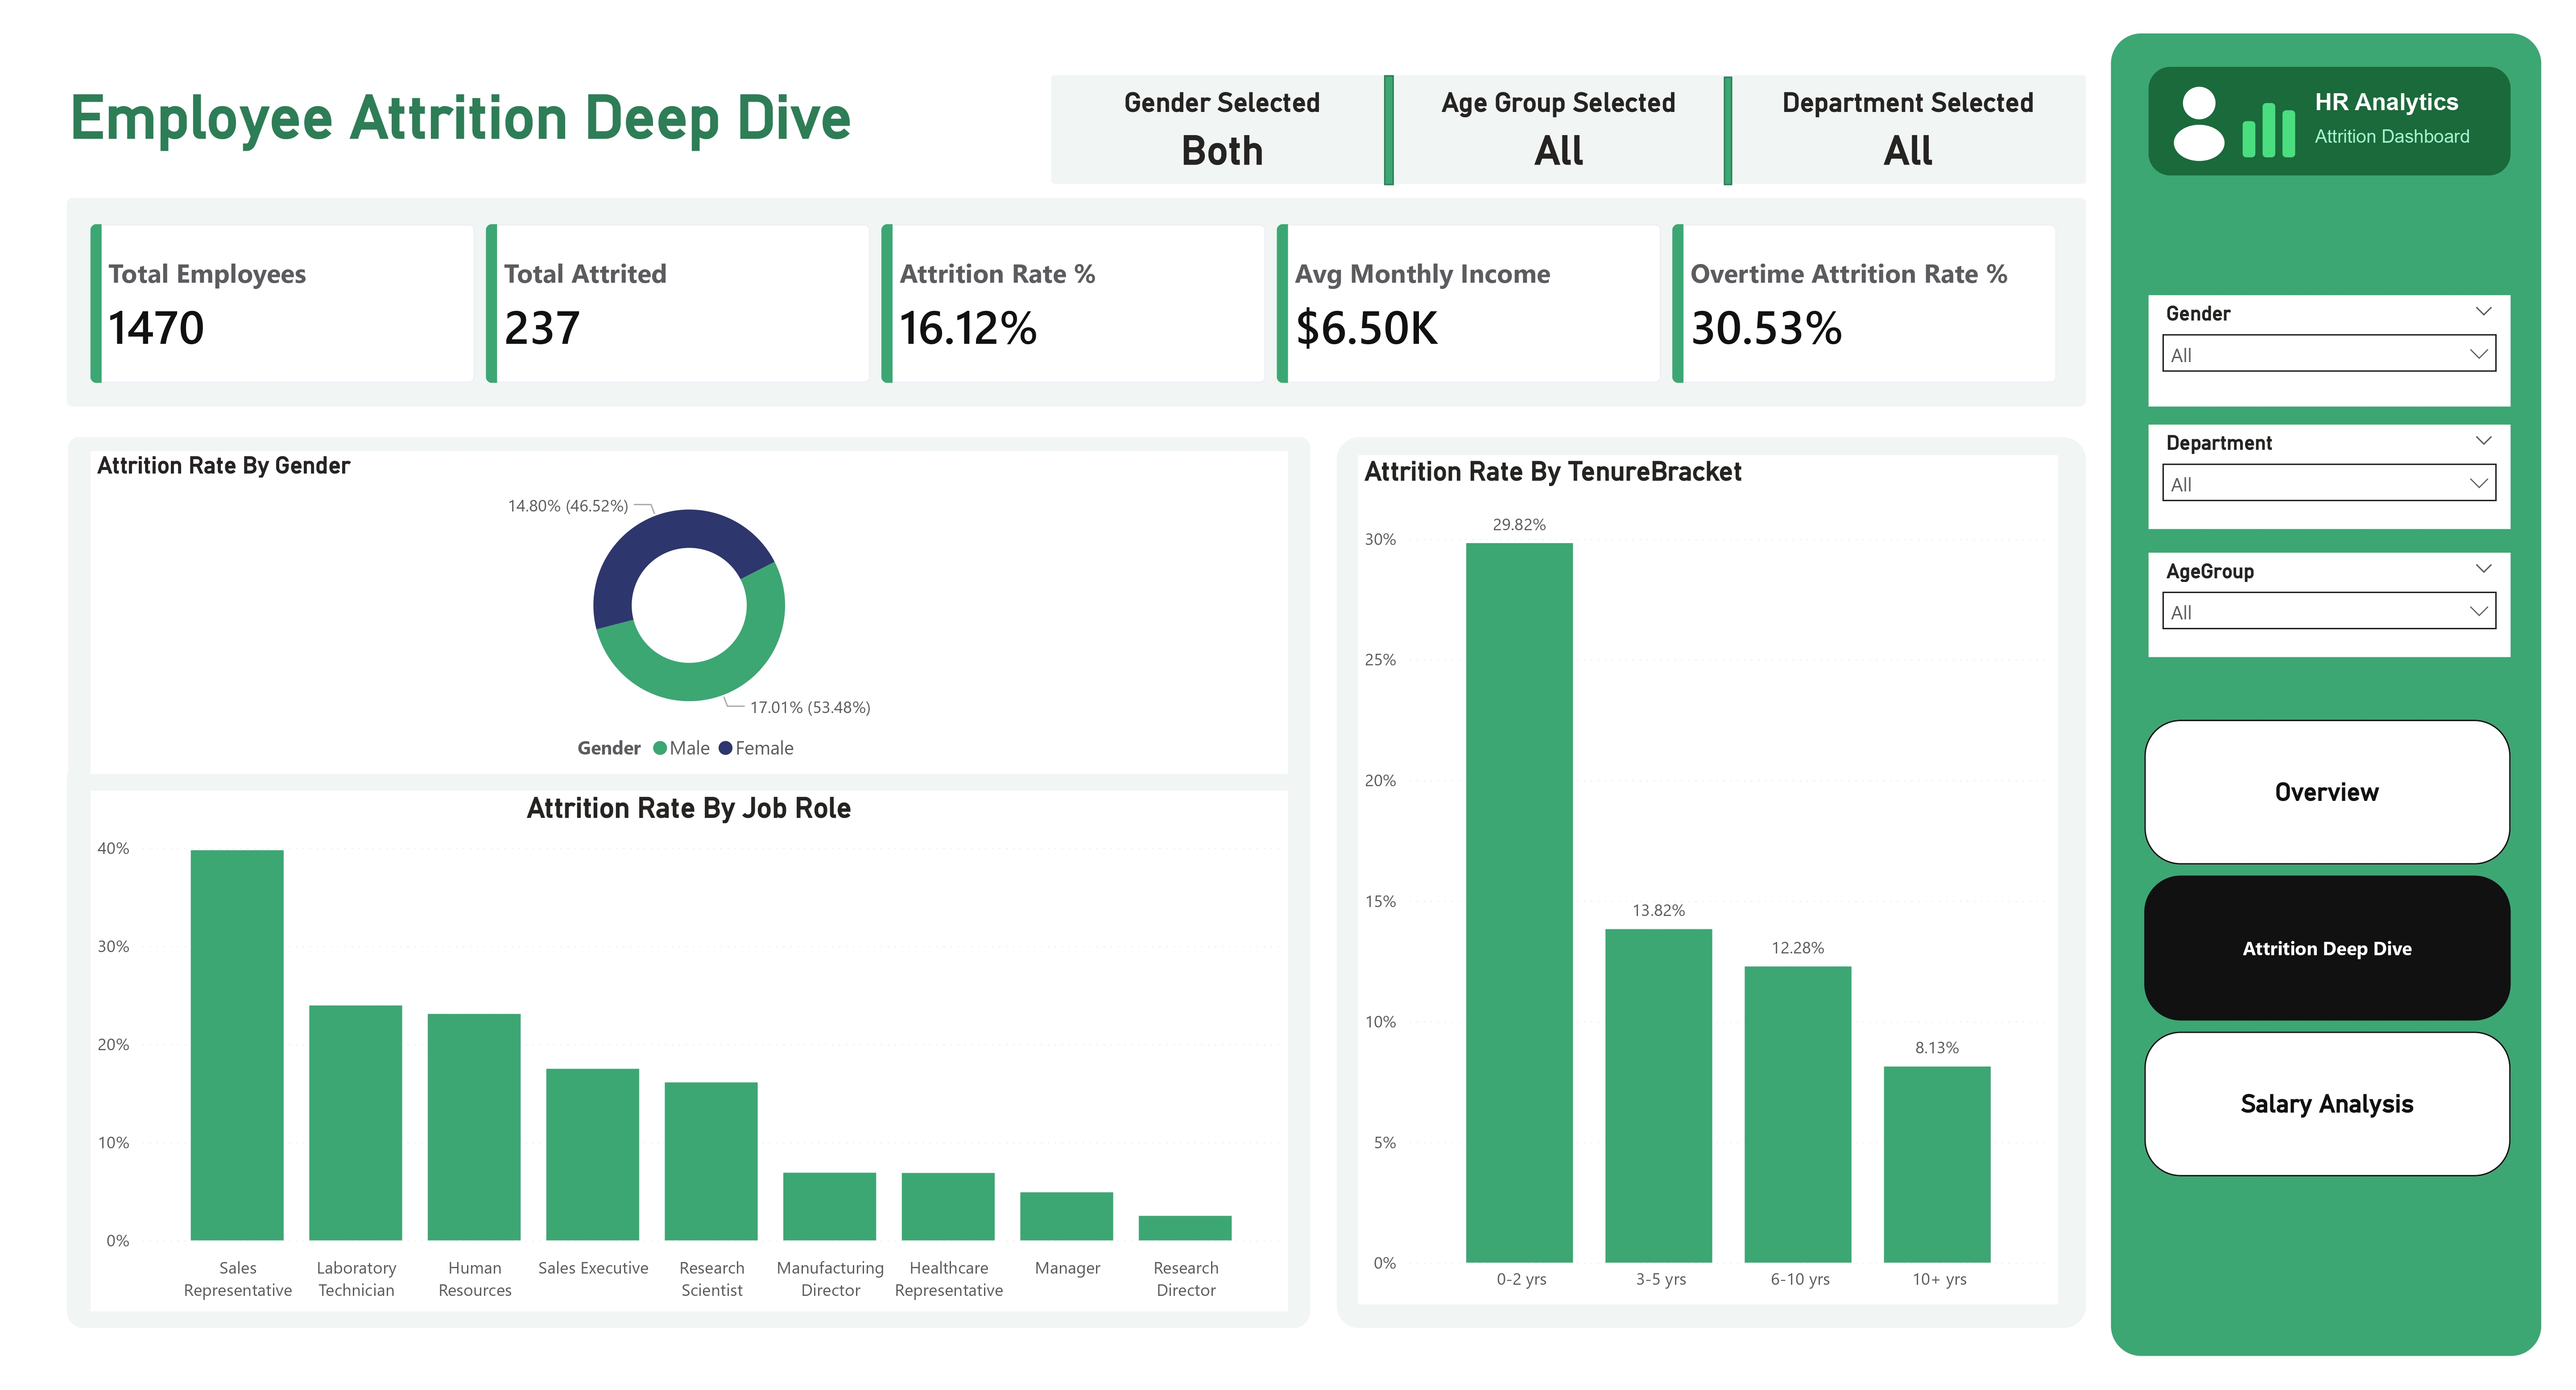

This screenshot's page, from the dashboard's own definition file:
{"tool":"powerbi","page":{"name":"Attrition Deep Dive","canvas":[1800,950],"ordinal":1},"visuals":[{"type":"shape","box":[24.4,290,891.1,250],"z":0},{"type":"shape","box":[23.3,523.3,892.2,406.7],"z":1000},{"type":"shape","box":[730,30,742.5,77.5],"z":2000},{"type":"shape","box":[1491.4,0,308.6,950],"z":3000},{"type":"shape","box":[23,118,1450,150],"z":4000},{"type":"clusteredColumnChart","title":"Attrition Rate By Job Role","fields":{"Category":["Jobrole.JobRole"],"Y":["Mesures Table.Attrition Rate %"]},"box":[40,544,860,374],"z":5000},{"type":"donutChart","title":"Attrition Rate By Gender","fields":{"Category":["Employees.Gender"],"Y":["Mesures Table.Attrition Rate %"]},"box":[40,300,860,231.7],"z":6000},{"type":"slicer","fields":{"Values":["AgeGroup.AgeGroup"]},"box":[1517.5,372.5,260,75],"z":7000},{"type":"slicer","fields":{"Values":["Department.Department"]},"box":[1517.5,281.2,260,75],"z":8000},{"type":"cardVisual","fields":{"Data":["Mesures Table.Total Employees","Mesures Table.Total Attrited","Mesures Table.Attrition Rate %","Mesures Table.Avg Monthly Income","Mesures Table.Overtime Attrition Rate %"]},"box":[23,120,1450,148],"z":9000},{"type":"textbox","box":[20,30,710,90],"z":10000},{"type":"card","title":"Gender Selected","fields":{"Values":["Mesures Table.Sel_Gender"]},"box":[730,37.5,246.2,70],"z":11000},{"type":"card","title":"Age Group Selected","fields":{"Values":["Mesures Table.Sel_AgeGroup"]},"box":[976.2,37.5,236.2,70],"z":12000},{"type":"card","title":"Department Selected ","fields":{"Values":["Mesures Table.Department"]},"box":[1218.3,38.3,255,70],"z":13000},{"type":"pageNavigator","title":"Page Navigator","box":[1515,492.5,262.5,330],"z":14000},{"type":"shape","box":[1212.9,31.4,5.7,77.1],"z":15000},{"type":"shape","box":[968.6,30,7.1,78.6],"z":16000},{"type":"slicer","title":"Gender","fields":{"Values":["Employees.Gender"]},"box":[1518,188,260,80],"z":17000},{"type":"shape","box":[935,290,537.5,640],"z":18000},{"type":"clusteredColumnChart","title":"Attrition Rate By TenureBracket","fields":{"Y":["Mesures_Table.Attrition Rate %"],"Category":["hr_cleaned.TenureBracket"]},"box":[950,302.5,502.5,610],"z":19000},{"type":"image","box":[1517.6,0,260.2,126.1],"z":20000}]}

Visuals, with their boxes on the page's 1800x950 design canvas (x1, y1, x2, y2). These are canvas units, not pixel positions in the 2576x1390 screenshot, which may show the page scaled, cropped or inside an application window:
shape: region(24, 290, 916, 540)
shape: region(23, 523, 916, 930)
shape: region(730, 30, 1472, 108)
shape: region(1491, 0, 1800, 950)
shape: region(23, 118, 1473, 268)
"Attrition Rate By Job Role" clusteredColumnChart: region(40, 544, 900, 918)
"Attrition Rate By Gender" donutChart: region(40, 300, 900, 532)
slicer - AgeGroup.AgeGroup: region(1518, 372, 1778, 448)
slicer - Department.Department: region(1518, 281, 1778, 356)
cardVisual - Mesures Table.Total Employees x Mesures Table.Total Attrited: region(23, 120, 1473, 268)
textbox: region(20, 30, 730, 120)
"Gender Selected" card: region(730, 38, 976, 108)
"Age Group Selected" card: region(976, 38, 1212, 108)
"Department Selected " card: region(1218, 38, 1473, 108)
"Page Navigator" pageNavigator: region(1515, 492, 1778, 822)
shape: region(1213, 31, 1219, 108)
shape: region(969, 30, 976, 109)
"Gender" slicer: region(1518, 188, 1778, 268)
shape: region(935, 290, 1472, 930)
"Attrition Rate By TenureBracket" clusteredColumnChart: region(950, 302, 1452, 912)
image: region(1518, 0, 1778, 126)
